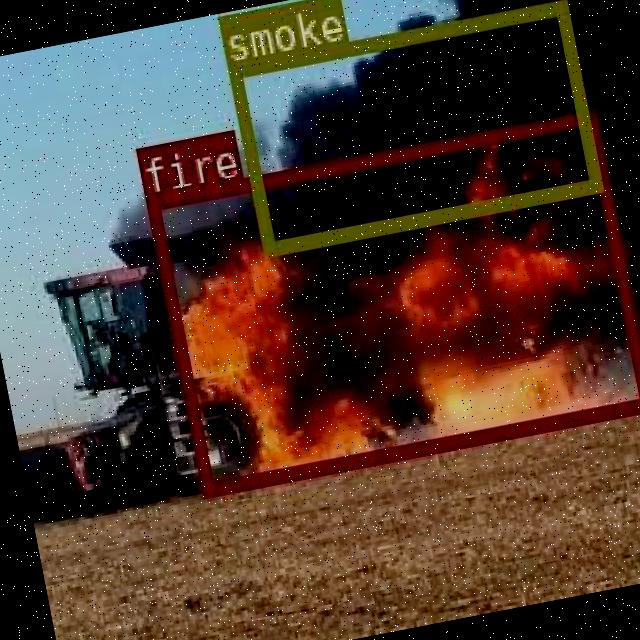fire: (142, 108, 640, 494)
smoke: (226, 0, 600, 254)
